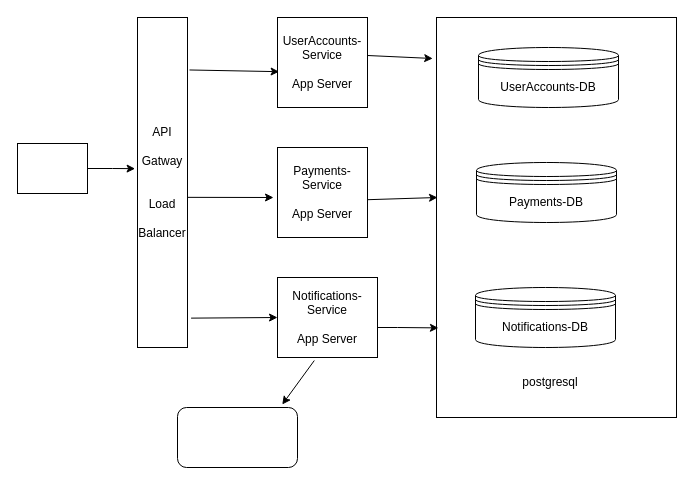
Image size: 694x485. Some labels were removed from this diagram. Here are the shapes that lost their labels. From the top down, the centre of each, then its label:
the point at 52,168: Client
the point at 237,437: secrets Manger
